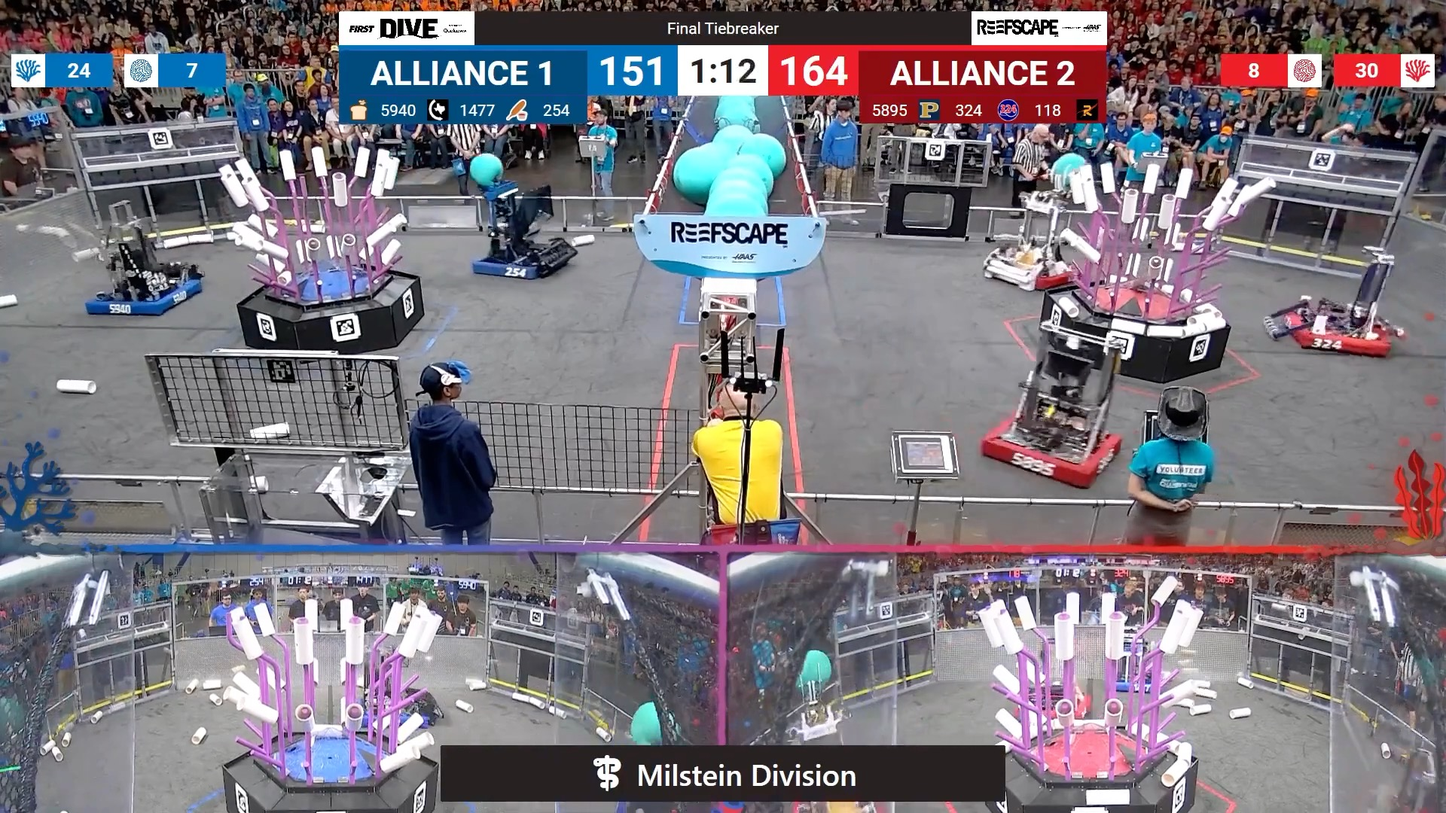bumpers: (978, 409, 1126, 490), (1275, 304, 1403, 366), (84, 273, 213, 324), (468, 243, 585, 287), (1003, 689, 1096, 726), (1021, 264, 1085, 291), (1108, 672, 1167, 696)
